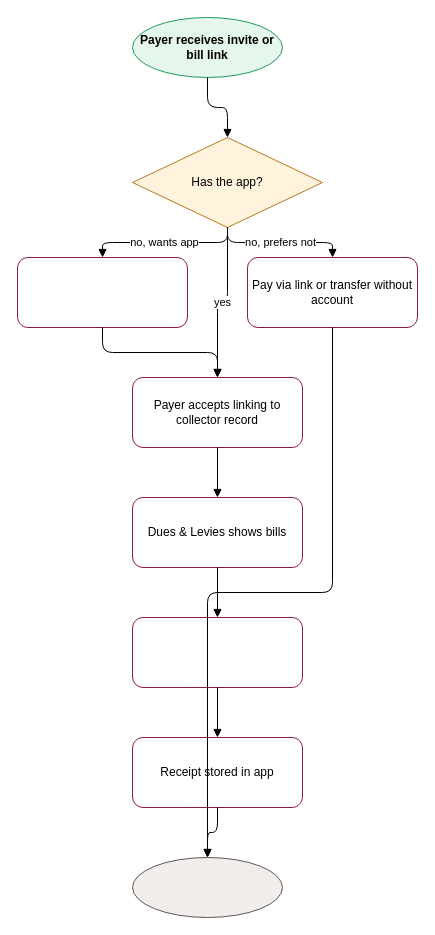
Some shapes in this 435 by 935 pixel diagram are drawn without their labels. Here are the shapes that lost their labels. From the top down, the centre of each, then its label:
At pixel 102 292: "Install and sign up".
At pixel 217 652: "Pay in one tap or enable auto-pay with consent".
At pixel 207 887: "Paid".
